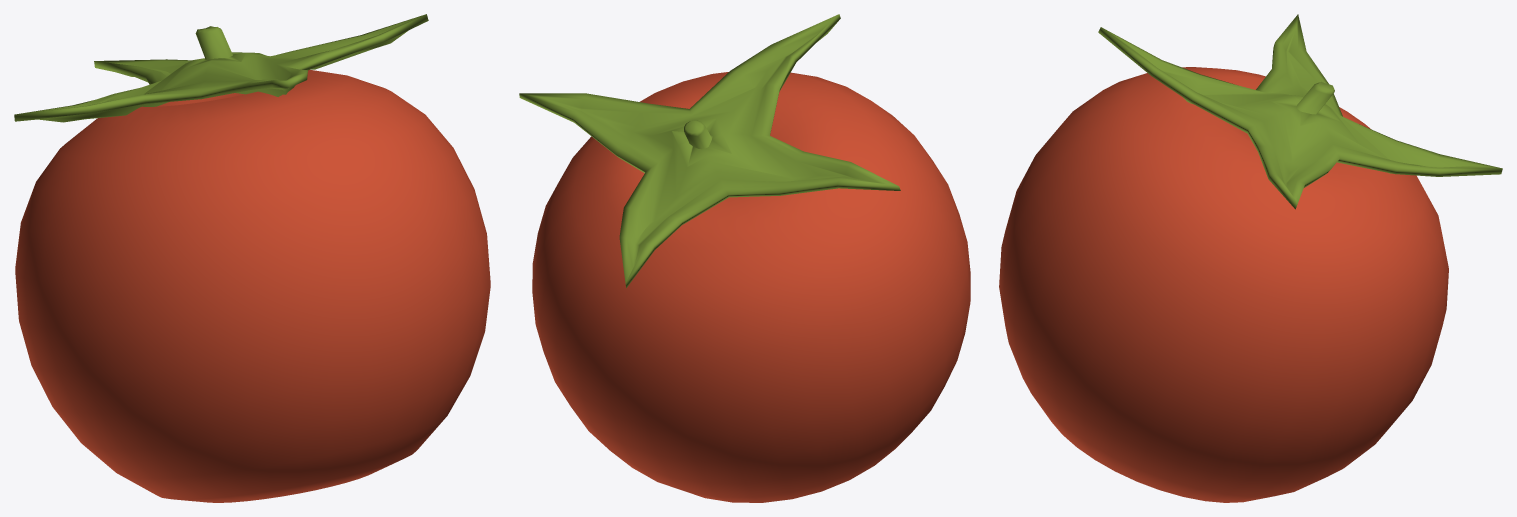
File: Berry.fbx
The picture shows the model from 3 angles, left to right: view 1: azimuth 30°, elevation 25°; view 2: azimuth 150°, elevation 25°; view 3: azimuth 270°, elevation 25°; orthographic projection. The views are drawn at different scales.
Visible parts, largest first — view 1: Circle.001; view 2: Circle.001; view 3: Circle.001.
Boxes of the visible parts, x1,y1,x2,y2 form: Circle.001: (14, 14, 490, 502); Circle.001: (519, 14, 970, 502); Circle.001: (999, 14, 1502, 502).
Bounding box in the file's own units: 54.63 × 57.35 × 60.12.
